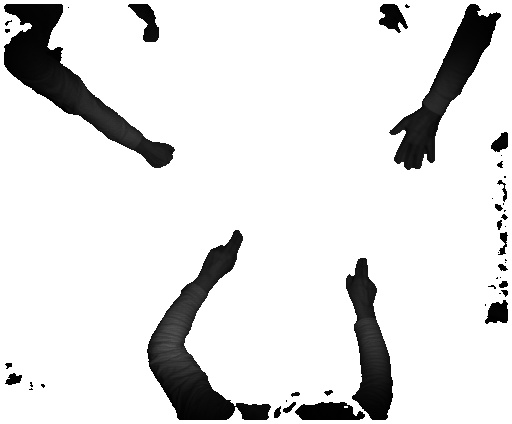fist: (143, 141, 175, 167), (137, 26, 159, 47)
hand: (384, 111, 439, 171), (204, 224, 247, 282), (344, 256, 383, 310)
